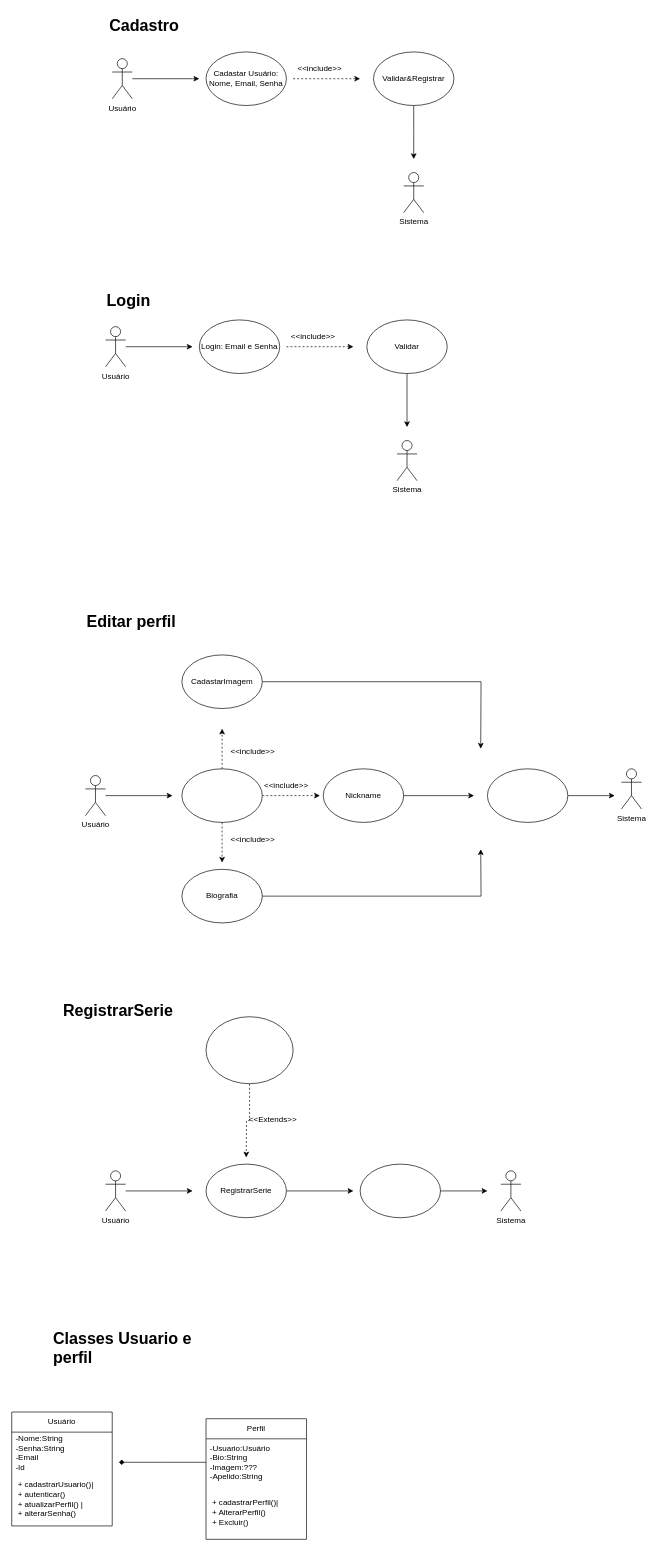
This 657x1551 diagram has some shape labels left out. The shapes that lost their labels are listed below. From the top down, each one's centre as x and y in pixels, then its label:
At (221,795): "Editar".
At (527,795): "Registar".
At (249,1050): "Definir Status: Finalizada, Em andamento, Abandonada, QueroAssisitr".
At (400,1190): "Registrar".
